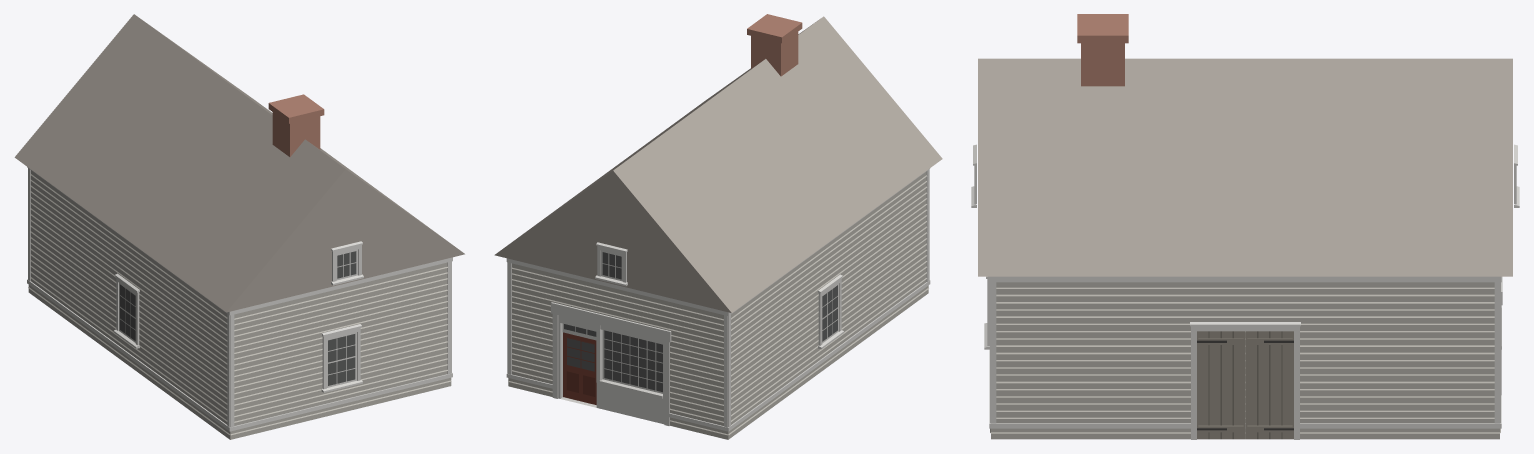
File: recon_1835_blk_lake_franklin_c2_01__inferred_1835.glb
3 renders of one model, left to right at view 1: azimuth 30°, elevation 25°; view 2: azimuth 150°, elevation 25°; view 3: azimuth 270°, elevation 25°, orthographic. The views are drawn at different scales.
Visible parts, largest first — view 1: recon_1835_blk_lake_franklin_c2_01__inferred_1835; view 2: recon_1835_blk_lake_franklin_c2_01__inferred_1835; view 3: recon_1835_blk_lake_franklin_c2_01__inferred_1835.
Part boxes in pixels (x1,y1,x2,y2): recon_1835_blk_lake_franklin_c2_01__inferred_1835: (14,14,464,439); recon_1835_blk_lake_franklin_c2_01__inferred_1835: (494,14,942,439); recon_1835_blk_lake_franklin_c2_01__inferred_1835: (971,14,1519,439).
Bounding box in the file's own units: 6.64 × 7.28 × 10.44.
